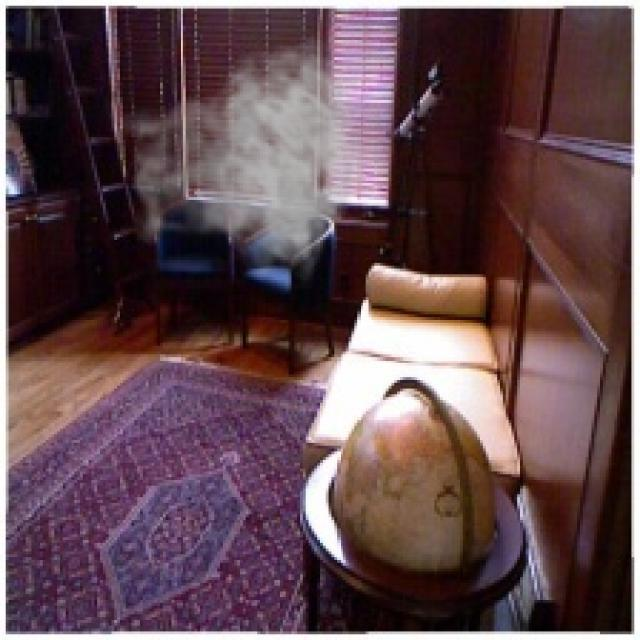Smoke: (114, 34, 369, 289)
